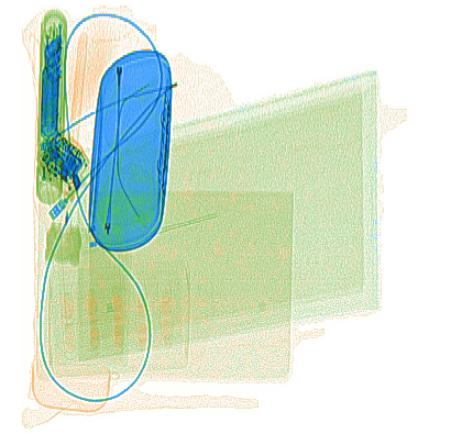battery: (41, 36, 63, 137)
